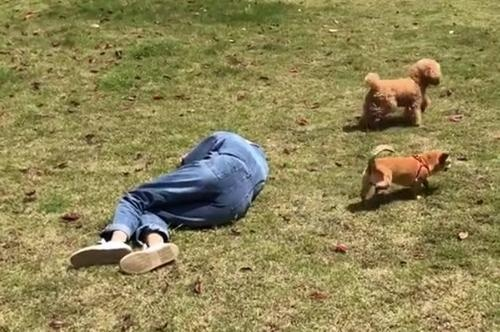falling: (63, 119, 277, 277)
